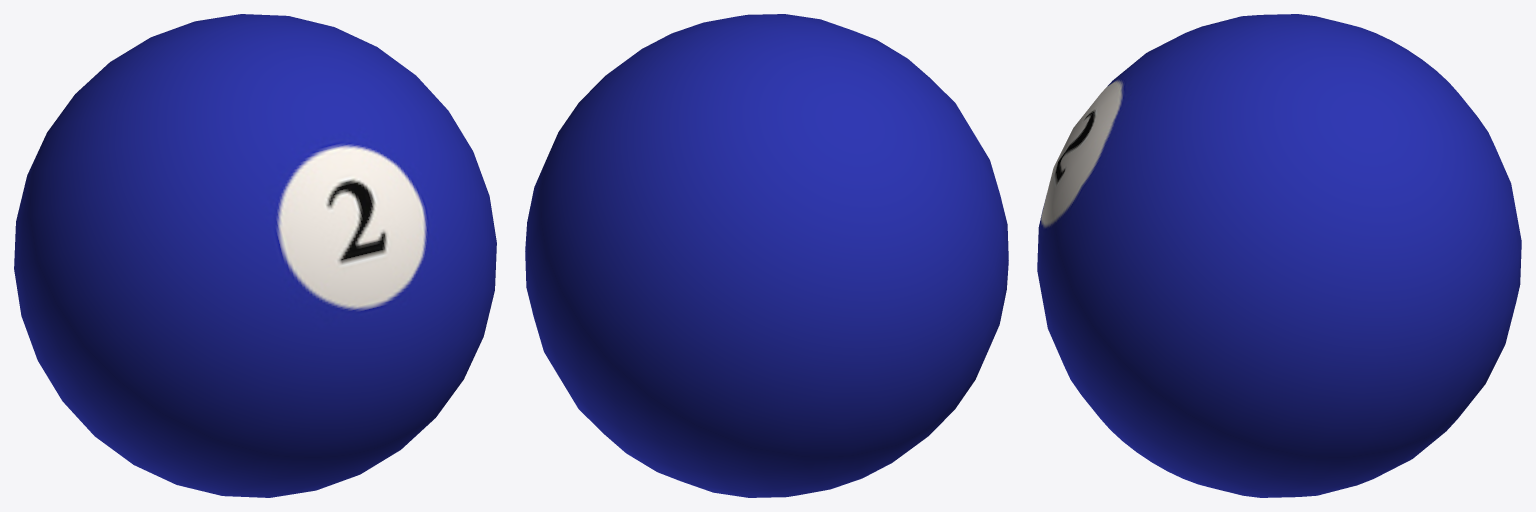
File: blue.glb
3 renders of one model, left to right at view 1: azimuth 30°, elevation 25°; view 2: azimuth 150°, elevation 25°; view 3: azimuth 270°, elevation 25°, orthographic.
Visible parts, largest first — view 1: Ball2_02 - Default_0; view 2: Ball2_02 - Default_0; view 3: Ball2_02 - Default_0.
Boxes of the visible parts, box(x1,y1,x2,y2) form: Ball2_02 - Default_0: box(14, 14, 496, 497); Ball2_02 - Default_0: box(525, 14, 1008, 497); Ball2_02 - Default_0: box(1037, 14, 1521, 497).
Bounding box in the file's own units: 37.86 × 37.78 × 37.78.
1 material, 1 textured.
